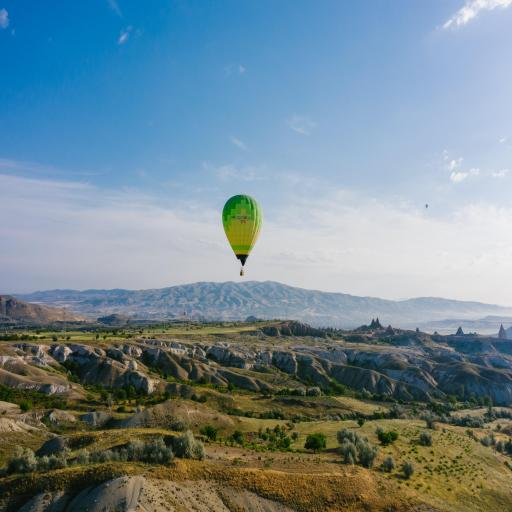hot air ballon: (222, 194, 263, 275), (184, 312, 187, 318), (425, 204, 428, 209)
